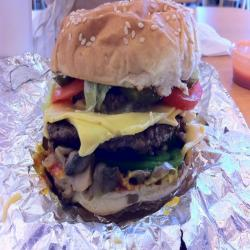burger: (40, 1, 204, 219)
